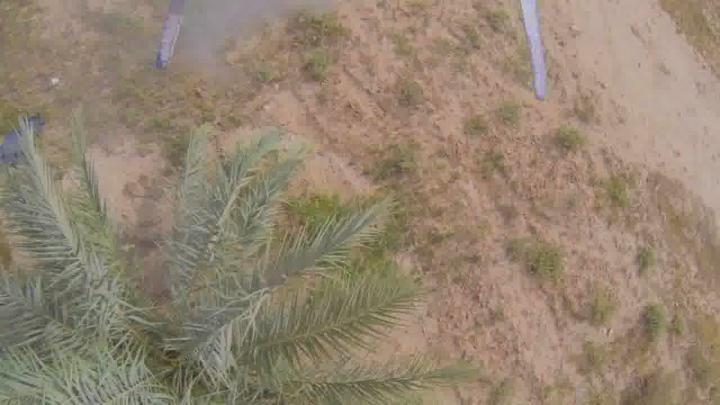Date-Palm-Crown: (0, 201, 316, 405)
